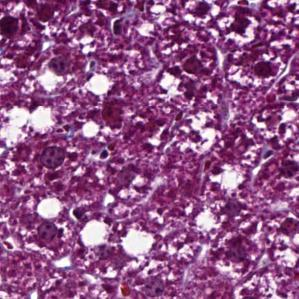steatosis: (78, 211, 109, 253), (122, 220, 156, 258)
